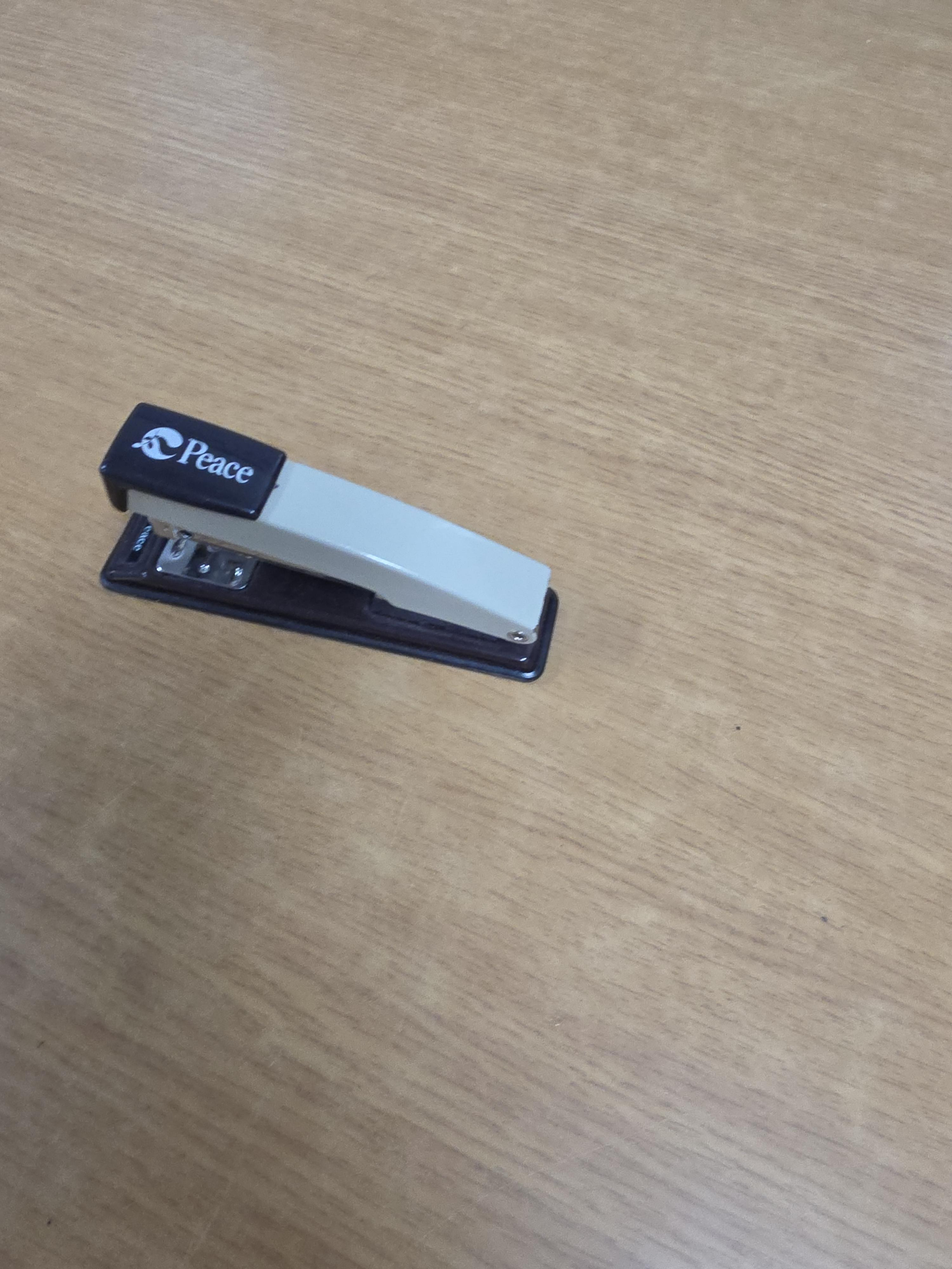stapler: (98, 401, 560, 682)
